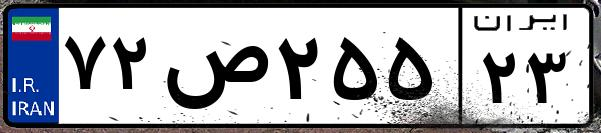2: (270, 28, 330, 110), (475, 38, 525, 113), (110, 28, 158, 98)
3: (525, 38, 570, 115)
5: (385, 28, 445, 110), (330, 28, 385, 110)
7: (57, 26, 110, 100)
ص: (158, 20, 270, 120)
